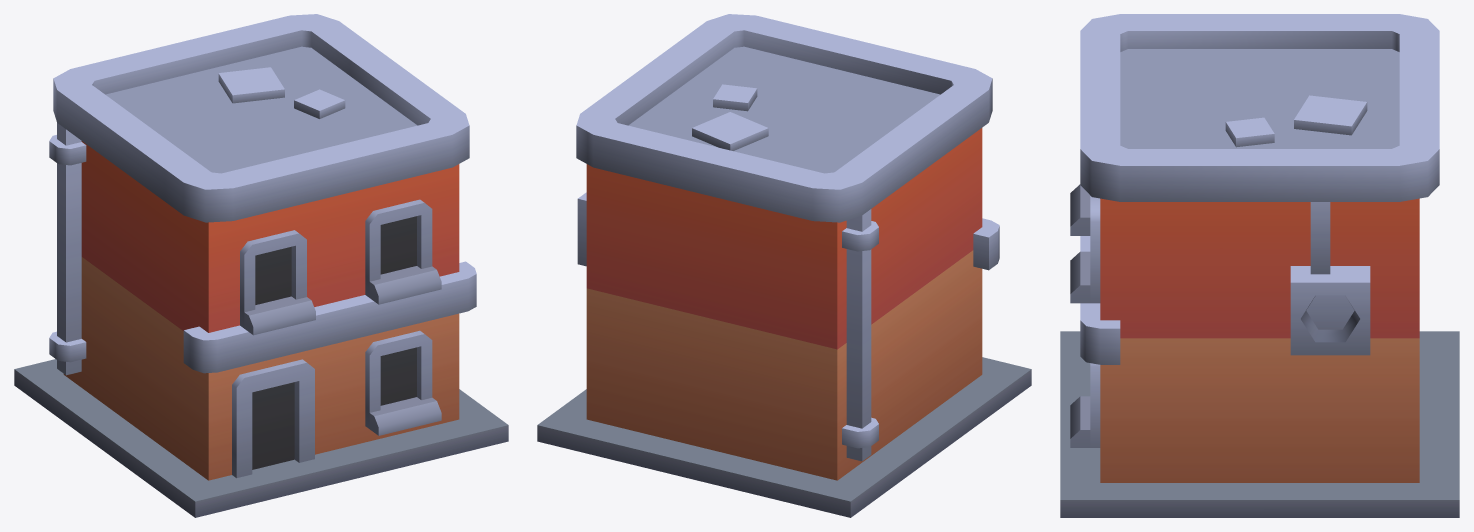
Rendered from building-small-a.glb.
3 renders of one model, left to right at view 1: azimuth 30°, elevation 25°; view 2: azimuth 150°, elevation 25°; view 3: azimuth 270°, elevation 25°, orthographic. The views are drawn at different scales.
Parts seen in each view (by area): view 1: building-small-a; view 2: building-small-a; view 3: building-small-a.
Boxes of the visible parts, left/top/right/bottom form: building-small-a: left=14, top=14, right=508, bottom=517; building-small-a: left=537, top=14, right=1031, bottom=517; building-small-a: left=1060, top=14, right=1459, bottom=517.
Bounding box in the file's own units: 1 × 0.9499 × 1.
1 material, 1 textured.
